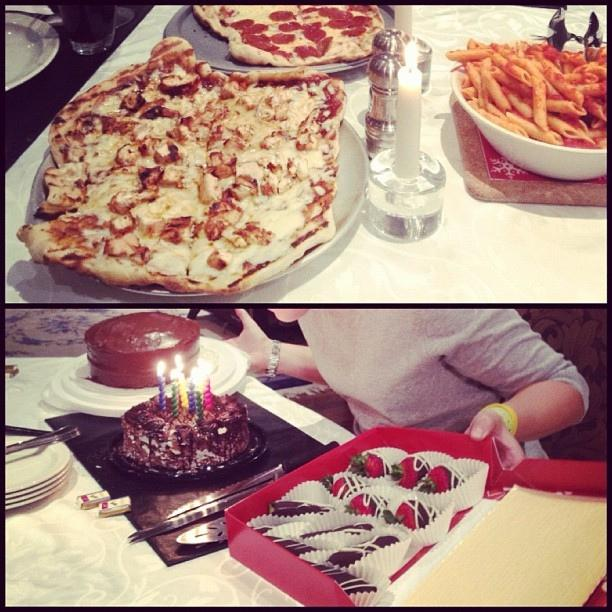strawberry: (380, 494, 442, 530), (390, 454, 430, 490), (417, 466, 458, 494), (344, 493, 391, 517), (348, 452, 390, 478), (332, 477, 349, 499)
